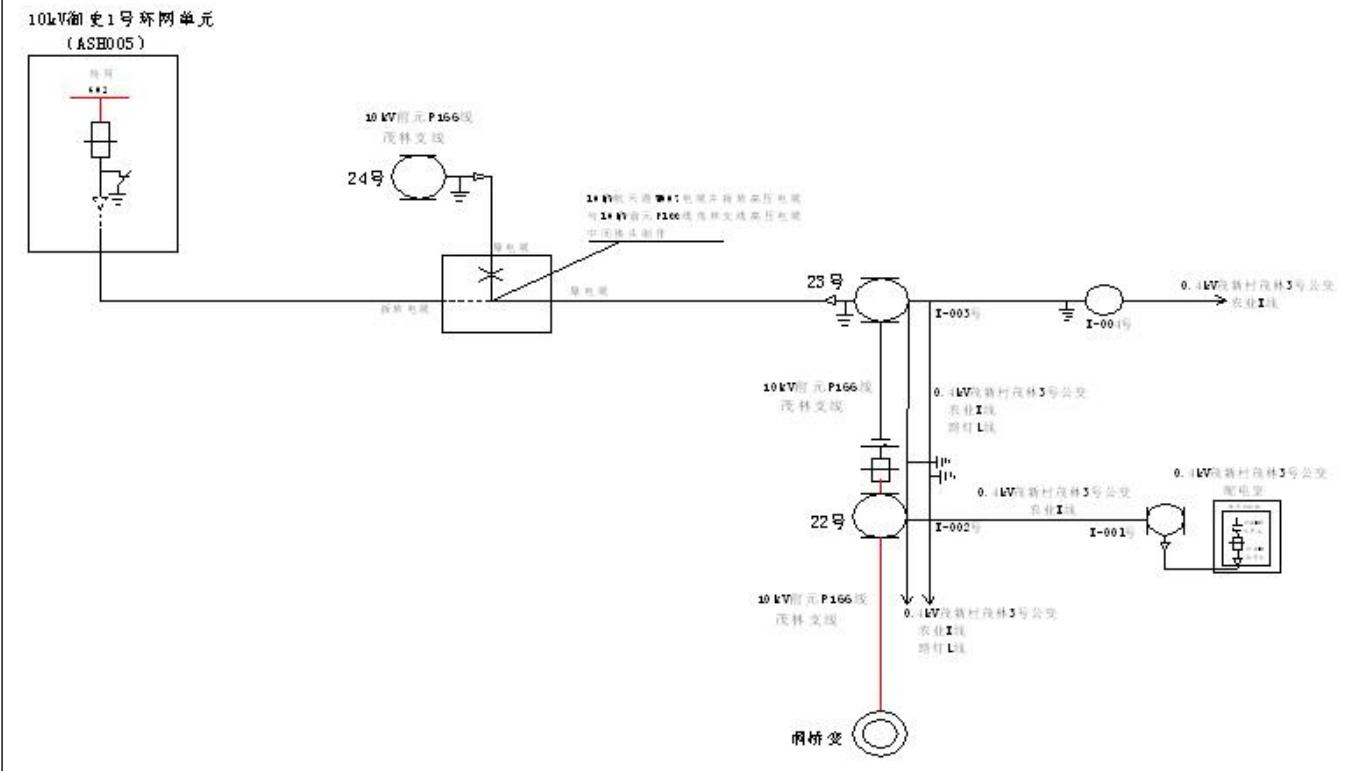t12: (846, 704, 917, 767), (1081, 279, 1128, 324)
t14: (847, 266, 916, 335), (385, 144, 450, 207), (851, 479, 912, 546), (1130, 485, 1196, 546)
t26: (420, 242, 566, 345)
t28: (104, 165, 135, 188)
t4: (851, 428, 910, 455)
t7: (72, 106, 123, 169), (857, 449, 905, 488)
t8: (101, 186, 136, 217), (1047, 291, 1077, 327), (445, 171, 474, 208), (918, 450, 960, 470), (931, 465, 963, 491), (834, 295, 852, 334)
t9: (1185, 279, 1238, 318), (894, 572, 917, 622), (918, 570, 944, 613)
